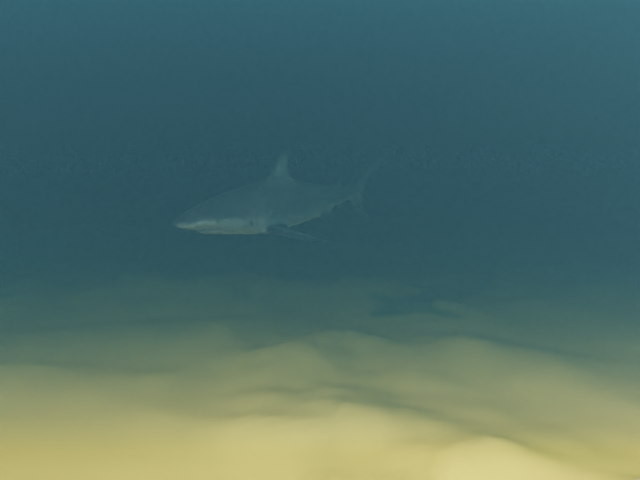Carribean Shark.001: (172, 146, 397, 243)
